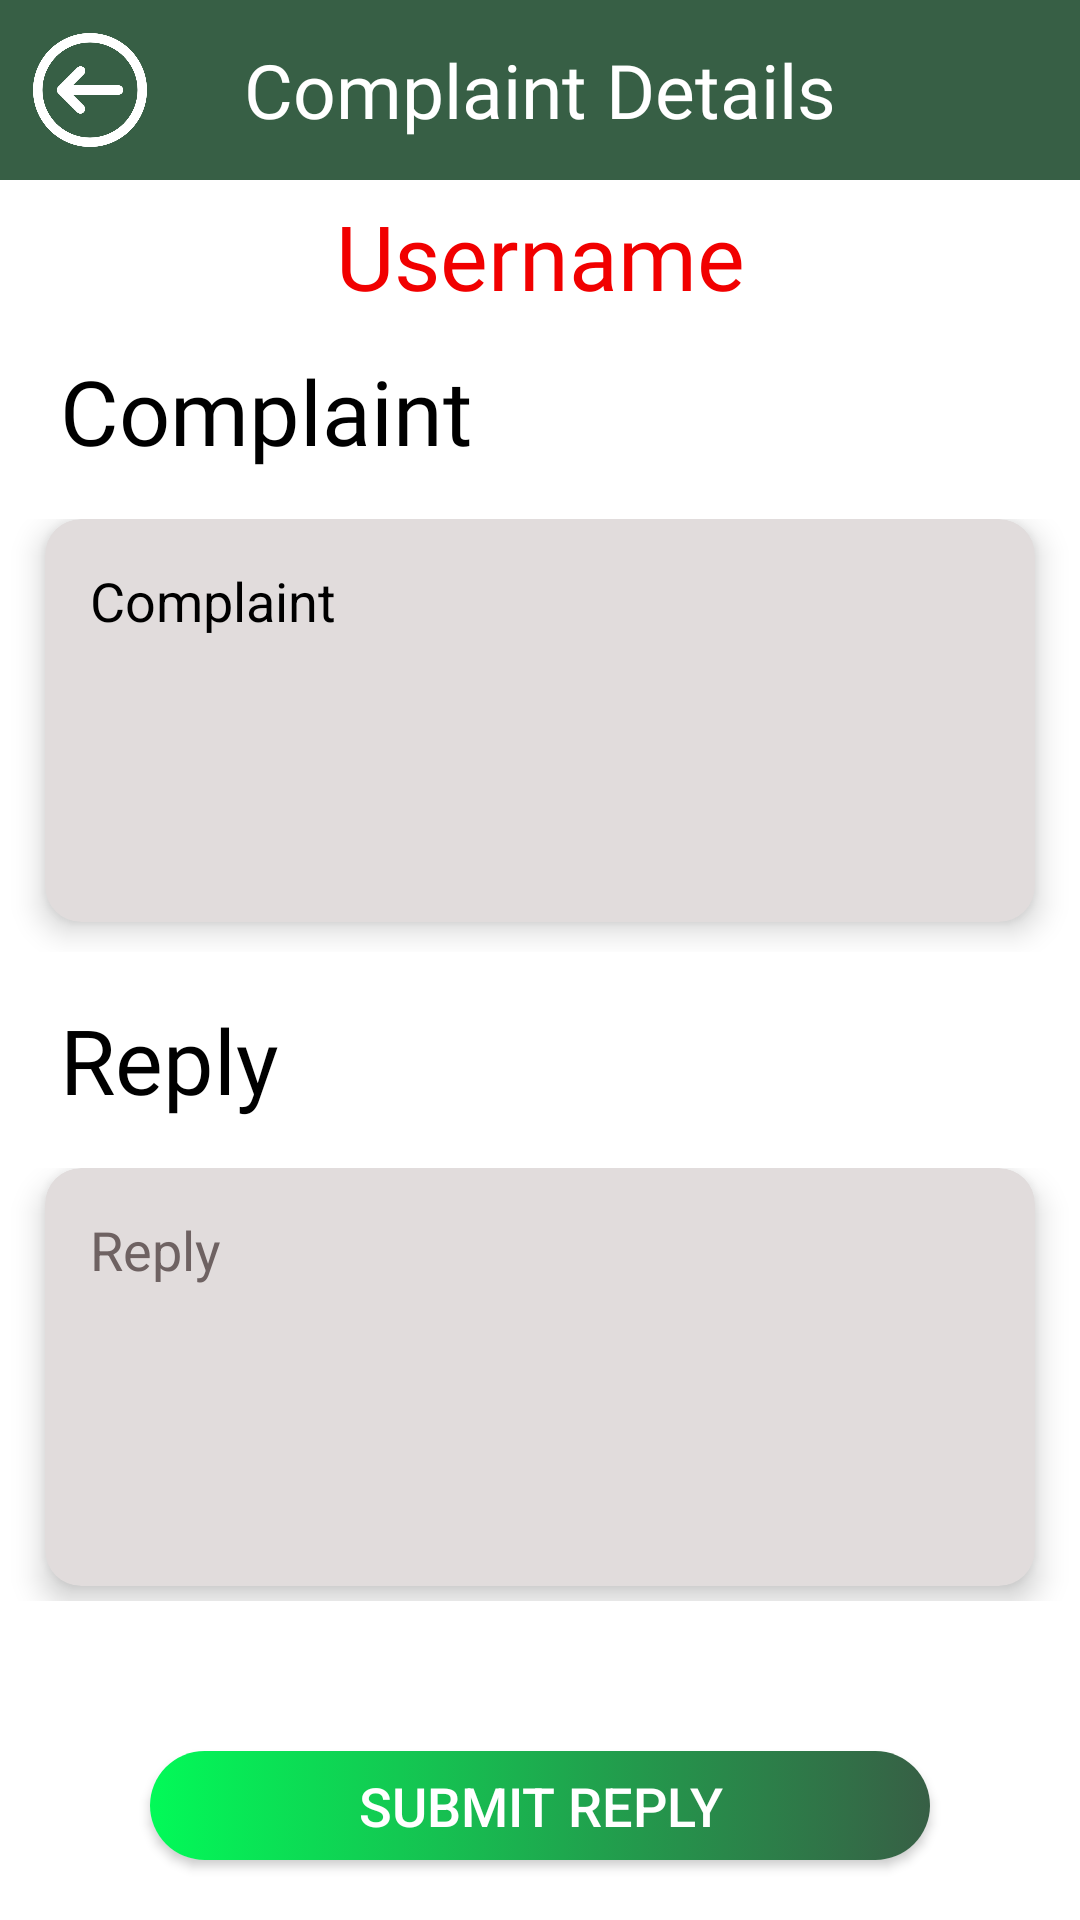

Icon click points for this 1080×1920 phone screenshot, format (x,y):
back: (90,90)
